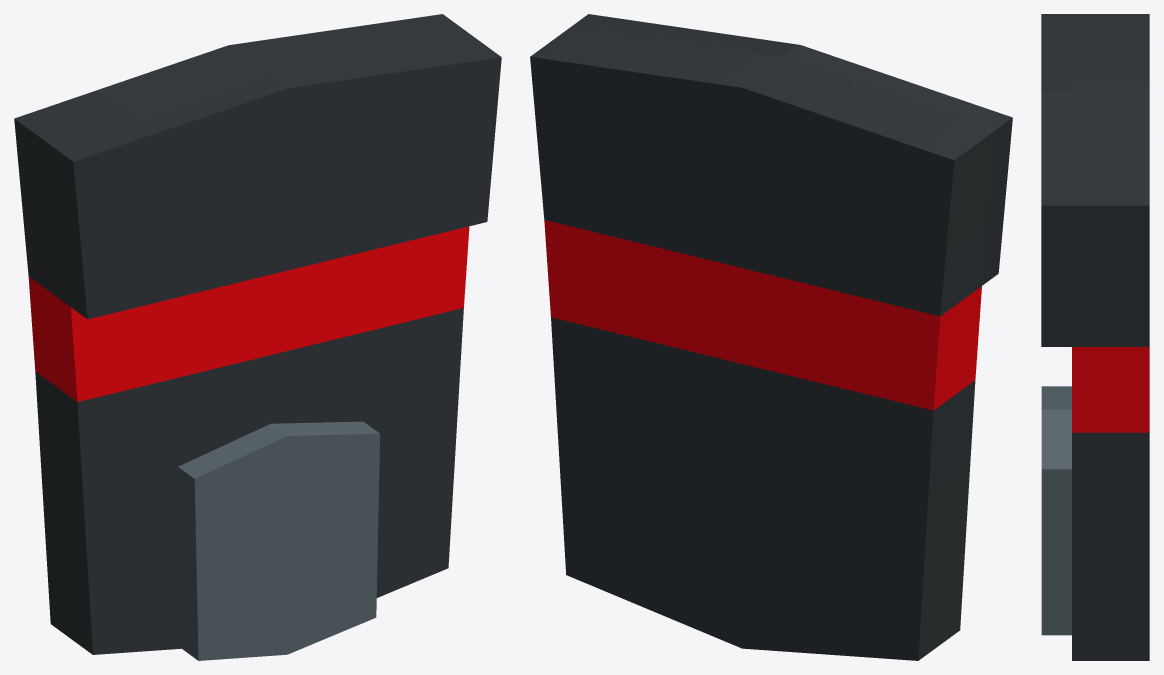
File: Mask 01 Red.FBX
3 renders of one model, left to right at view 1: azimuth 30°, elevation 25°; view 2: azimuth 150°, elevation 25°; view 3: azimuth 270°, elevation 25°, orthographic. The views are drawn at different scales.
Visible parts, largest first — view 1: Mask 01 Red; view 2: Mask 01 Red; view 3: Mask 01 Red.
Boxes of the visible parts, <box> form: Mask 01 Red: <box>14,14,501,660</box>; Mask 01 Red: <box>530,14,1012,660</box>; Mask 01 Red: <box>1041,14,1149,660</box>.
Bounding box in the file's own units: 19.34 × 24.42 × 4.62.
